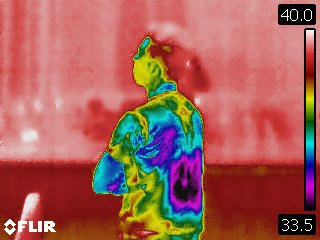human: (89, 28, 217, 240)
